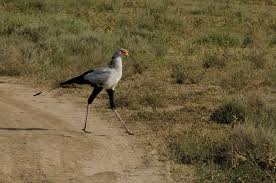Walking: (43, 46, 164, 144)
